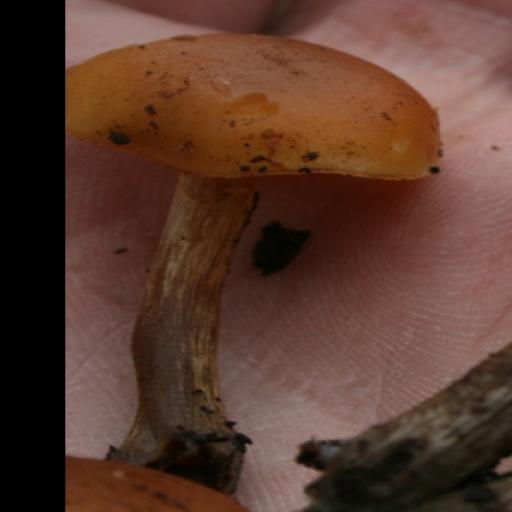mushroom: (66, 21, 462, 407)
